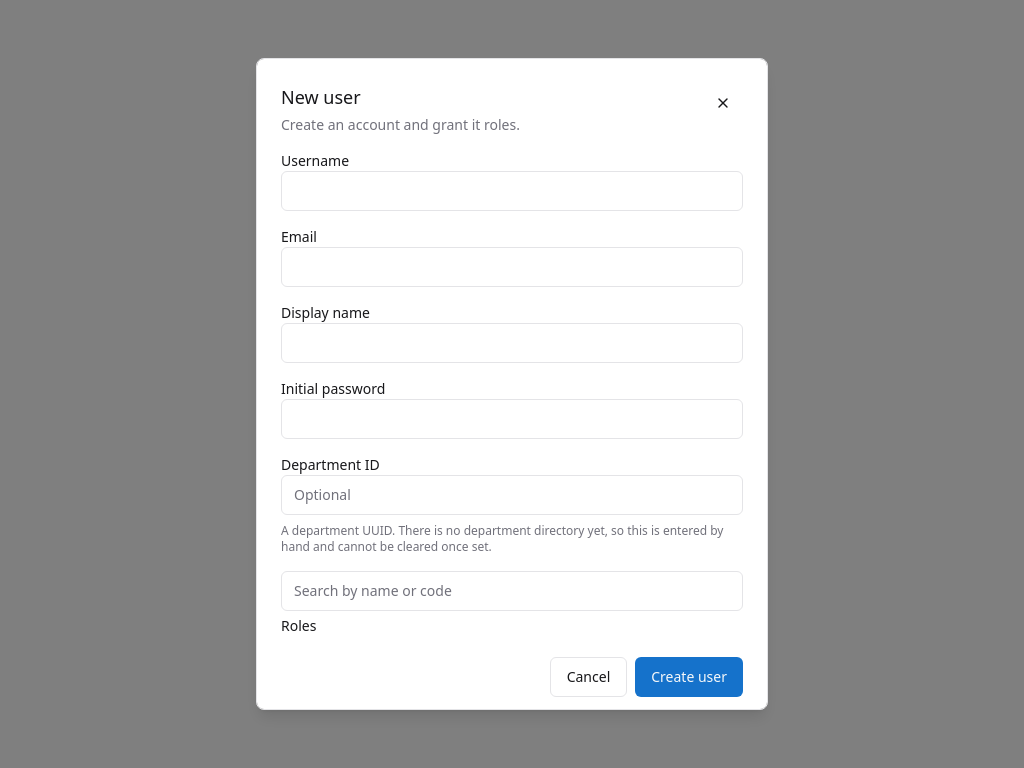
Test: UserFormDialog › binds the backend validation details to their fields by path
This screenshot has width=1024, height=768.
Type "bima" into the field with id "user-username".
click(512, 191); type("bima")  # box 281,171 -> 743,211
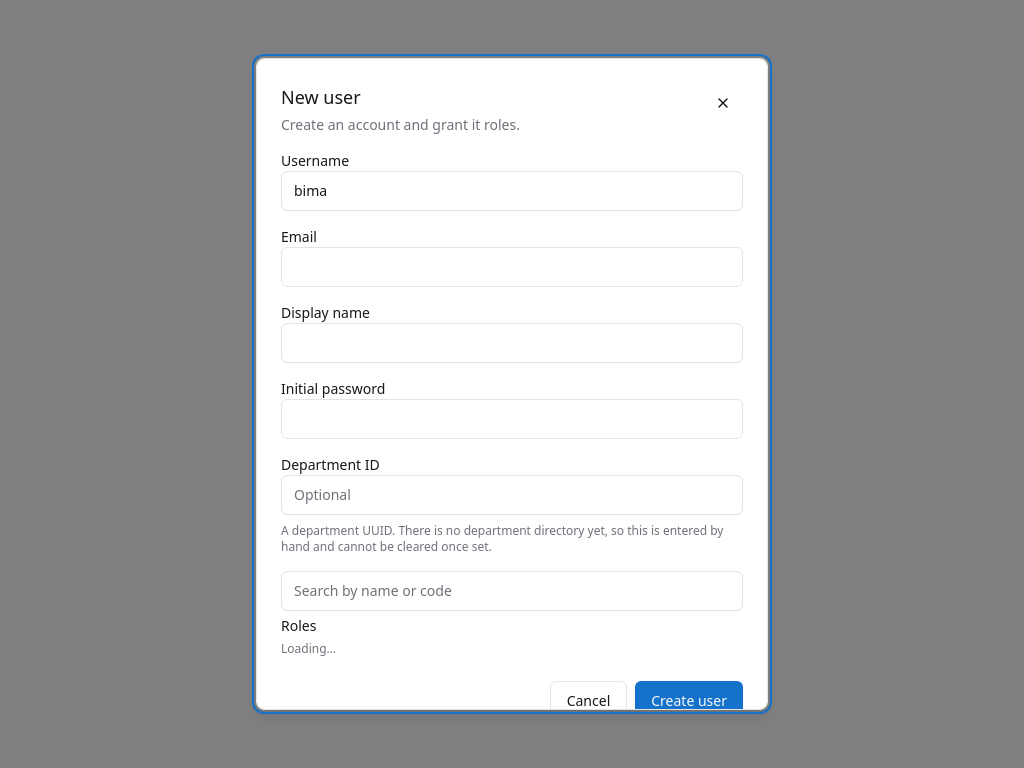
Type "bima@example.com" into the field with id "user-email".
click(512, 267); type("bima@example.com")  # box 281,247 -> 743,287
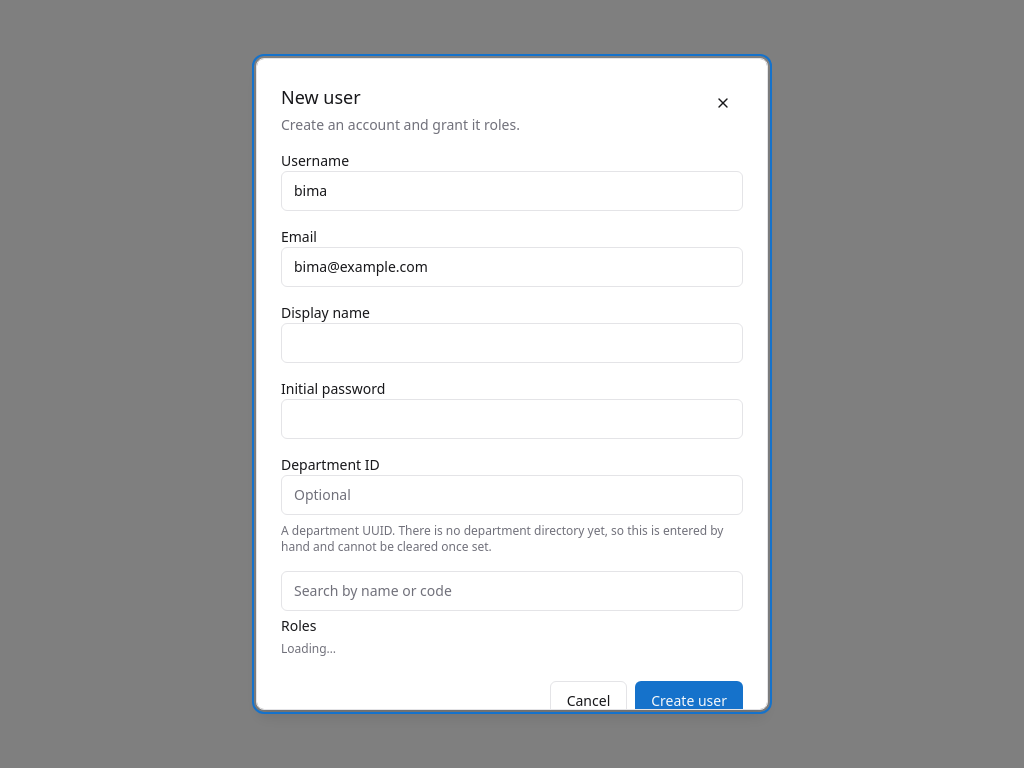
Type "Bima Santoso" into the field with id "user-display-name".
click(512, 343); type("Bima Santoso")  # box 281,323 -> 743,363
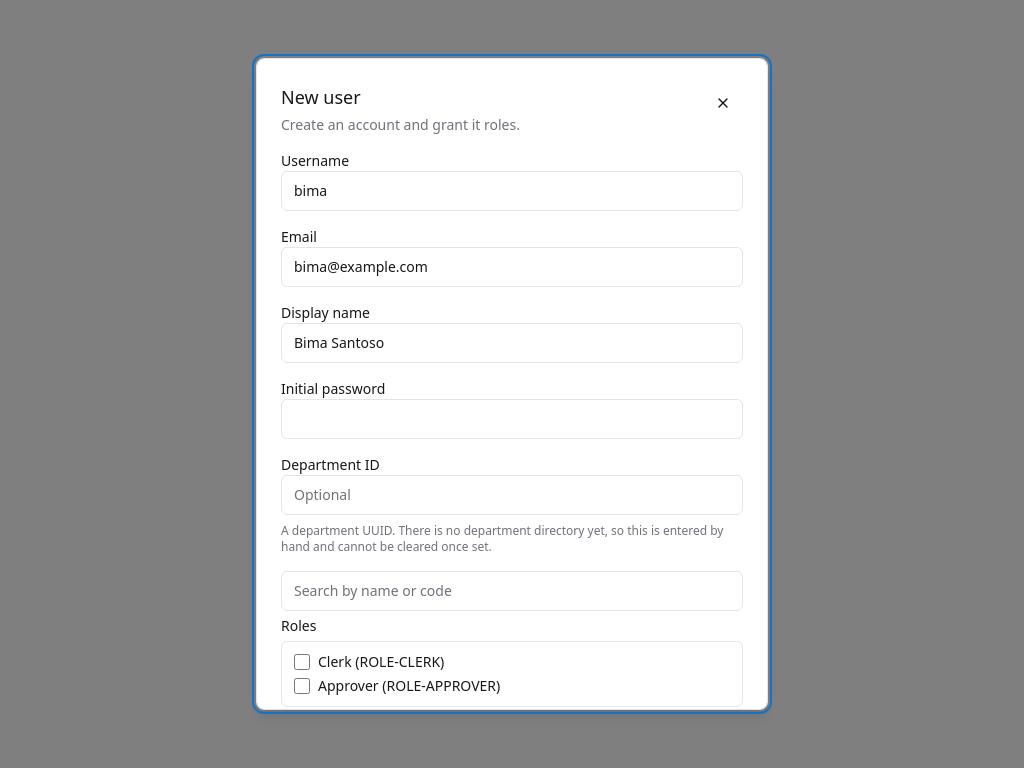
Type "a-long-enough-password" into the password field with id "user-password".
click(512, 419); type("a-long-enough-password")  # box 281,399 -> 743,439
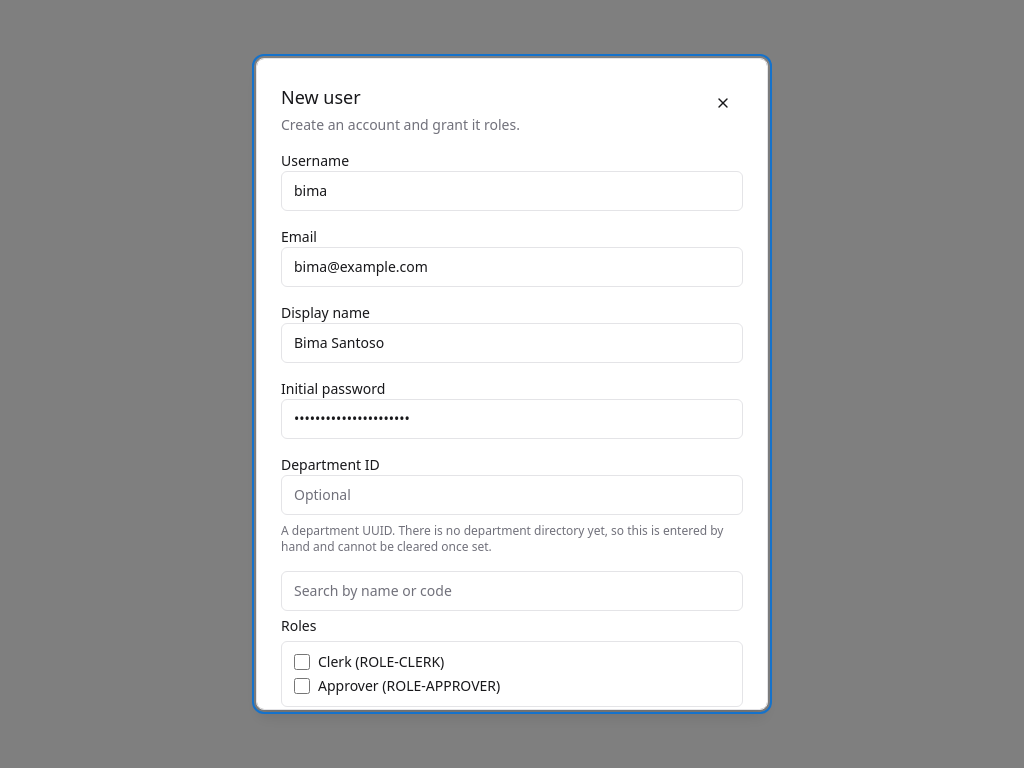
Submit the form, box 281,151 -> 743,707
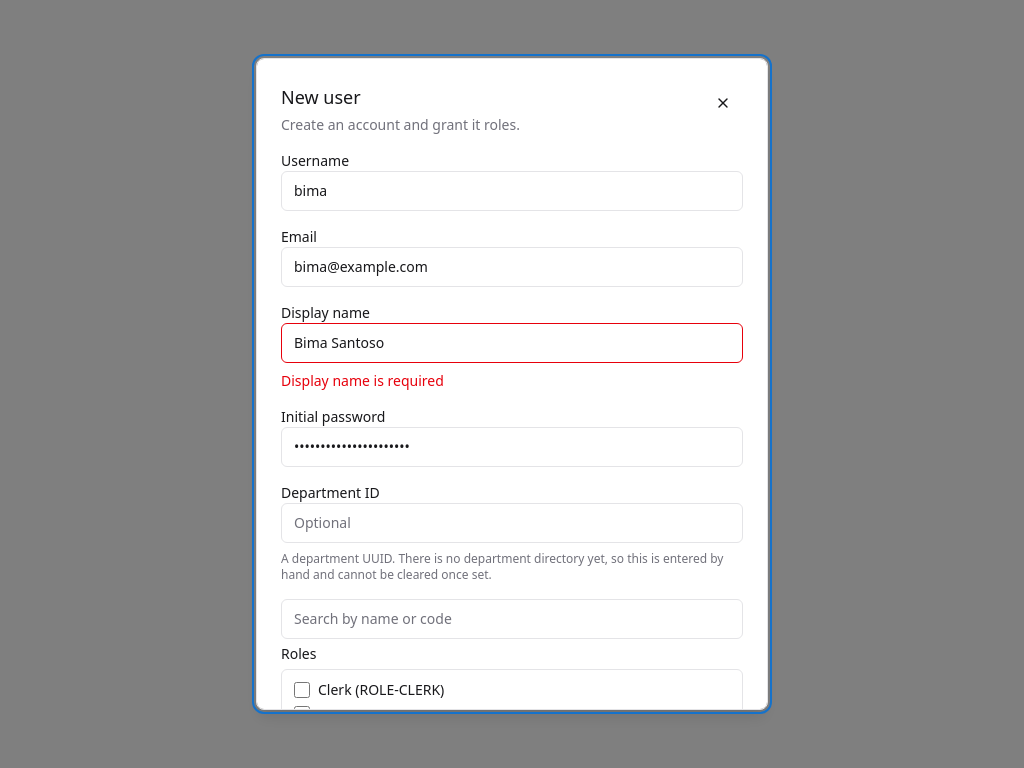
Check: the text with id "user-display-name-error" reads "Display name is required", box 281,371 -> 444,390
